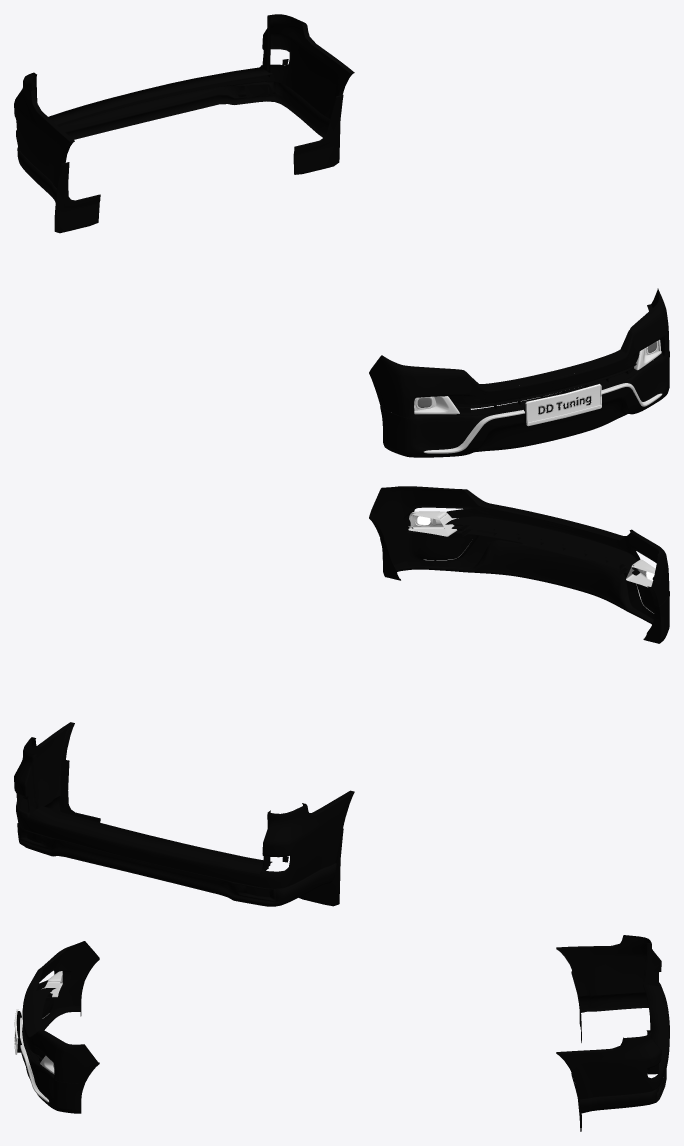
File: юбка2016.glb
3 views of the same model, one above another, from view 1: azimuth 30°, elevation 25°; view 2: azimuth 150°, elevation 25°; view 3: azimuth 270°, elevation 25° (orthographic). The views are drawn at different scales.
Parts seen in each view (by area): view 1: car, black, numberplate.1, chrome; view 2: car, black, chrome; view 3: car, black, chrome.
Part boxes in pixels (x1=…): car: x1=14, y1=14, x2=669, y2=457; black: x1=380, y1=330, x2=669, y2=421; numberplate.1: x1=525, y1=384, x2=601, y2=426; chrome: x1=414, y1=339, x2=662, y2=453; car: x1=14, y1=486, x2=669, y2=906; black: x1=407, y1=489, x2=669, y2=606; chrome: x1=408, y1=511, x2=655, y2=613; car: x1=21, y1=935, x2=669, y2=1131; black: x1=17, y1=968, x2=78, y2=1083; chrome: x1=20, y1=971, x2=62, y2=1102.
Bounding box in the file's own units: 2.27 × 0.9371 × 5.9.
6 materials, 1 textured.
